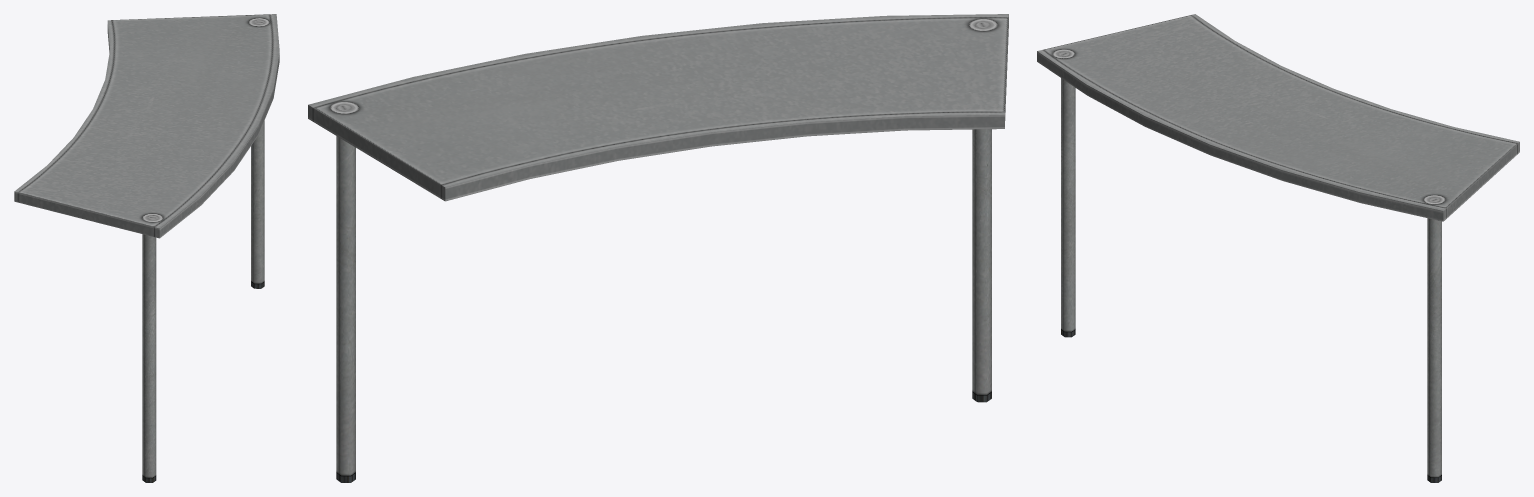
File: M_Home_Garden_Desk03.fbx
3 renders of one model, left to right at view 1: azimuth 30°, elevation 25°; view 2: azimuth 150°, elevation 25°; view 3: azimuth 270°, elevation 25°, orthographic. The views are drawn at different scales.
Parts seen in each view (by area): view 1: M_Home_Garden_Desk03; view 2: M_Home_Garden_Desk03; view 3: M_Home_Garden_Desk03.
Boxes of the visible parts, x1,y1,x2,y2 form: M_Home_Garden_Desk03: (14,14,279,482); M_Home_Garden_Desk03: (308,14,1008,482); M_Home_Garden_Desk03: (1037,14,1519,482).
Bounding box in the file's own units: 173 × 115 × 180.
